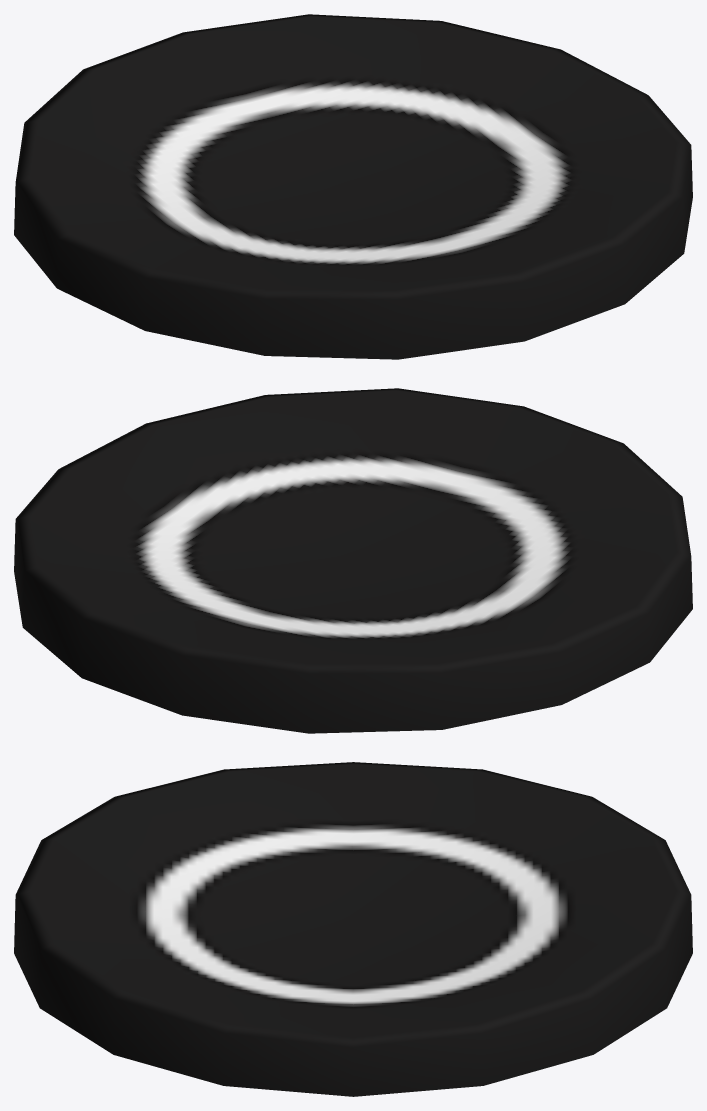
Rendered from sys_button.obj.
3 renders of one model, top to bottom at view 1: azimuth 30°, elevation 25°; view 2: azimuth 150°, elevation 25°; view 3: azimuth 270°, elevation 25°, orthographic.
Parts seen in each view (by area): view 1: polySurface275_polySurface285; view 2: polySurface275_polySurface285; view 3: polySurface275_polySurface285.
Part boxes in pixels (left/top/right/bottom): polySurface275_polySurface285: left=14, top=14, right=692, bottom=359; polySurface275_polySurface285: left=14, top=388, right=692, bottom=733; polySurface275_polySurface285: left=14, top=762, right=692, bottom=1096.
Bounding box in the file's own units: 0.0122 × 0.00124 × 0.0122.
1 material, 1 textured.
